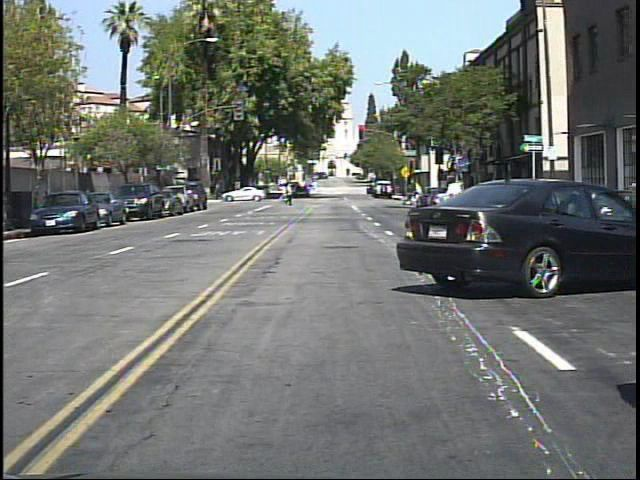person: (440, 163, 473, 248), (525, 169, 544, 224), (284, 177, 299, 209), (410, 176, 425, 199)
